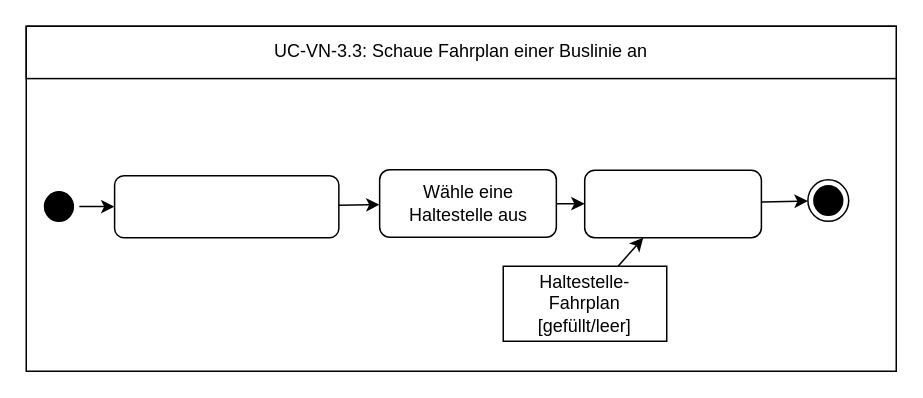
This 923x398 diagram has some shape labels left out. The box of each missing label's shape, as (x1, y1, x2, y2) in pixels:
Zeige alle Routen an (UC-VN-3.1): (113, 174, 339, 238)
Zeige Fahrplan für Haltestelle an: (583, 169, 761, 238)
